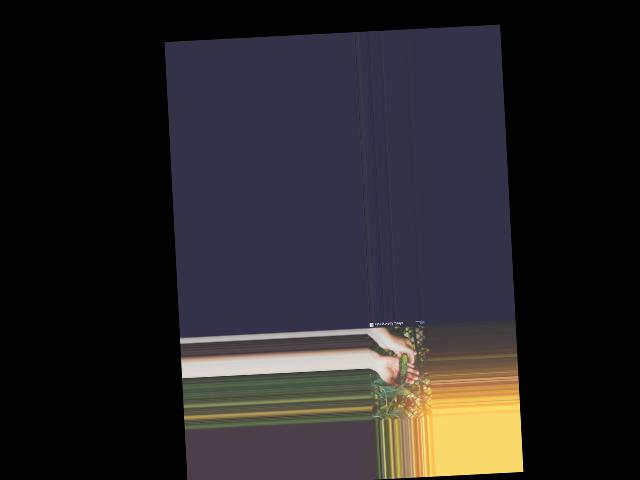cucumber: (396, 353, 409, 384)
